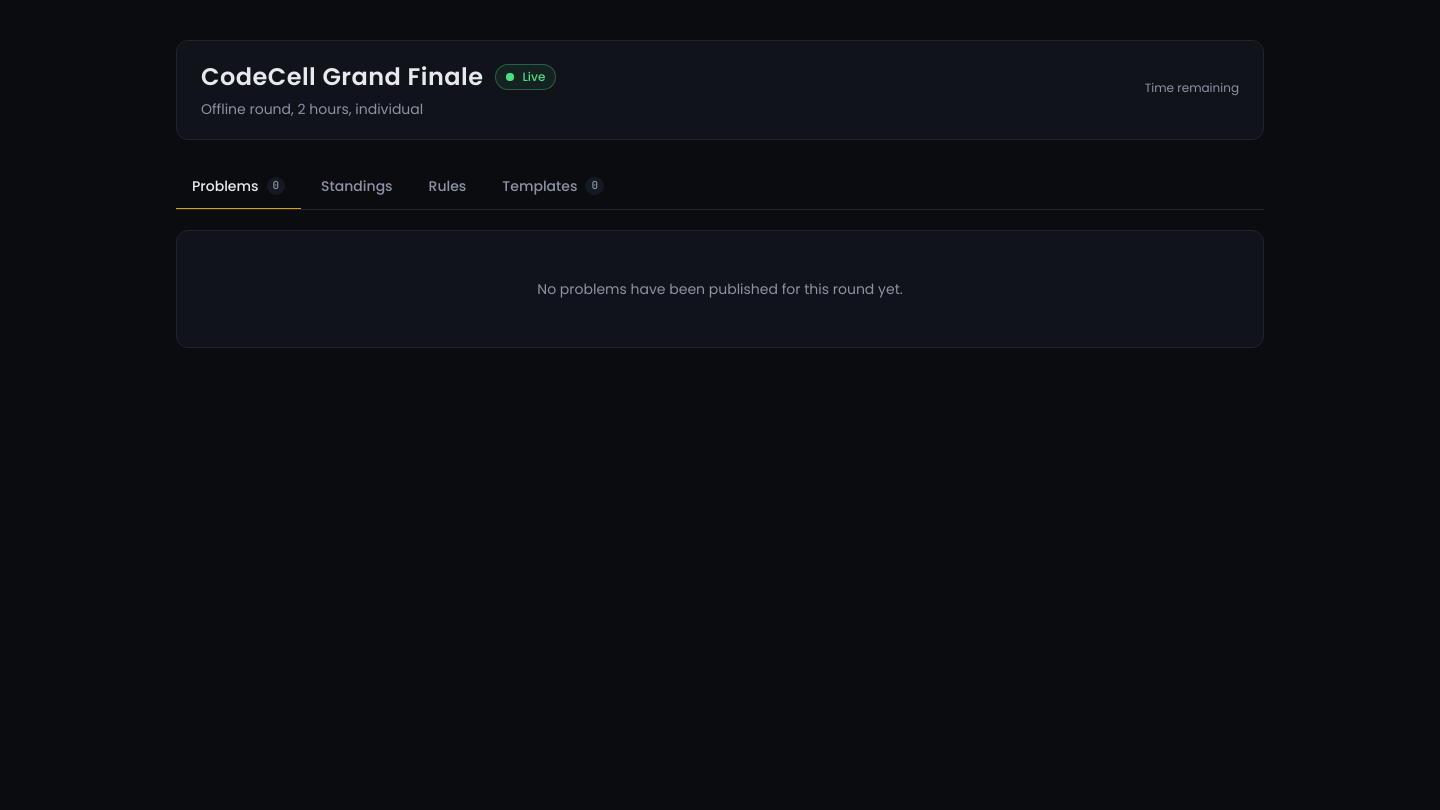
Test: finale contest page › lists the templates the participant brought, read only
Click the tab "Templates 0". click: (553, 187)
box: [486,164,620,210]
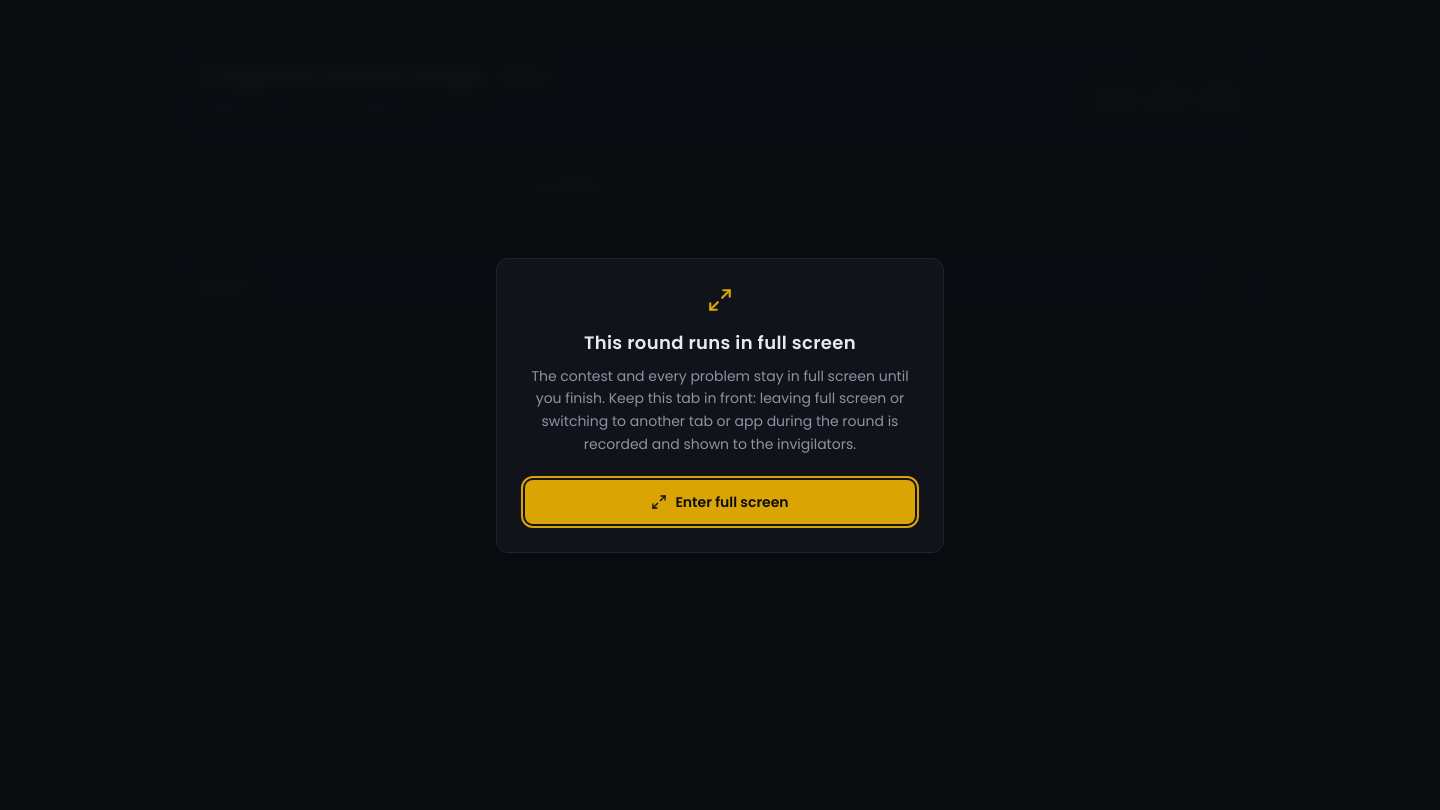
Result: the heading "Fast C++ CPP" is shown at [197,277,1243,297]
